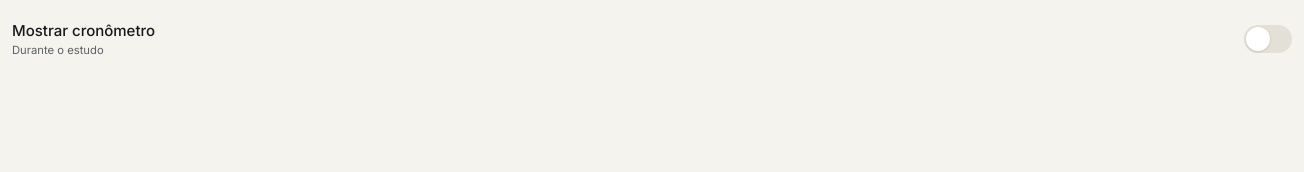
Test: Switch › toggles by click and keyboard
The image size is (1304, 172).
Click the switch labelled "Mostrar cronômetro". click: point(84, 30)
box: [12, 12, 1292, 66]
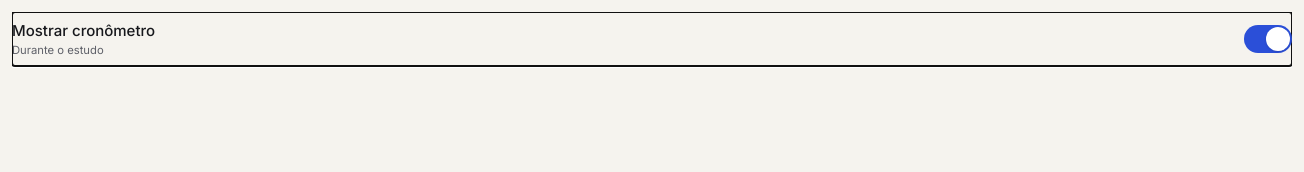
Now the switch labelled "Mostrar cronômetro" is checked, box [12, 12, 1292, 66]
Type keys " "
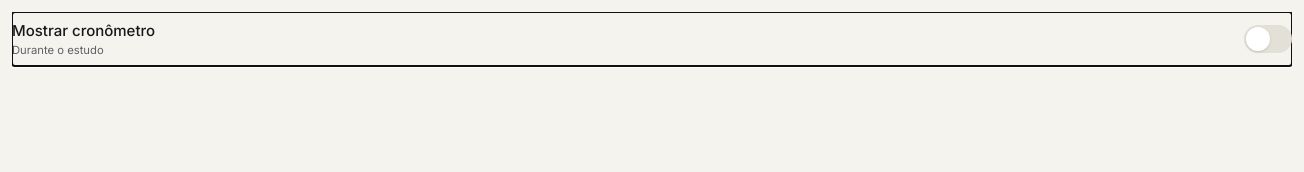
Now the switch labelled "Mostrar cronômetro" is not checked, box [12, 12, 1292, 66]
